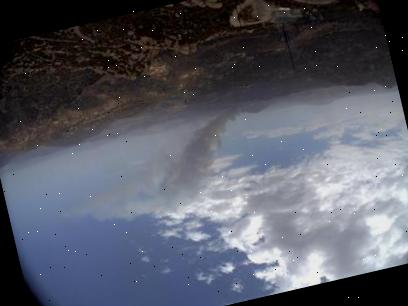smoke: (54, 100, 272, 239)
